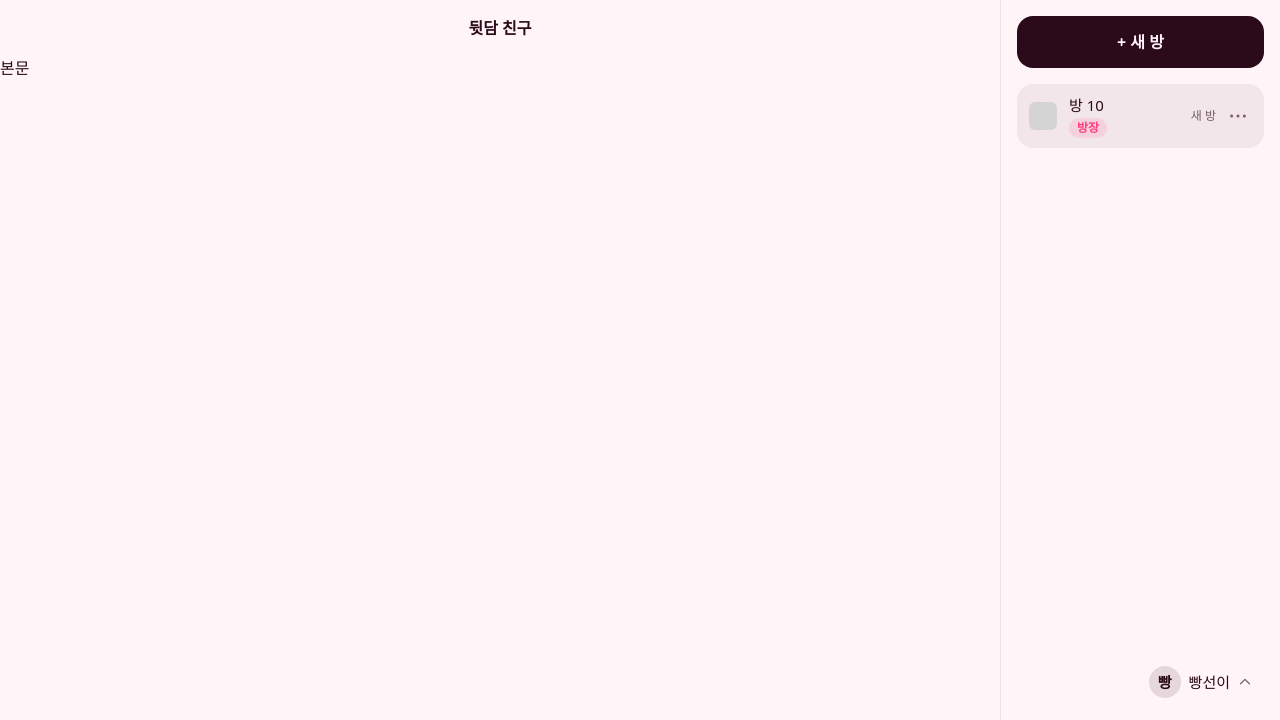
ChatShell 설정 진입 (실제 Sidebar) › 방 상세 조회가 실패해도 설정 시트는 열린다(테마만)
This screenshot has width=1280, height=720.
Click the button "빵 빵선이".
click(1203, 682)  # box 1143,660 -> 1264,704
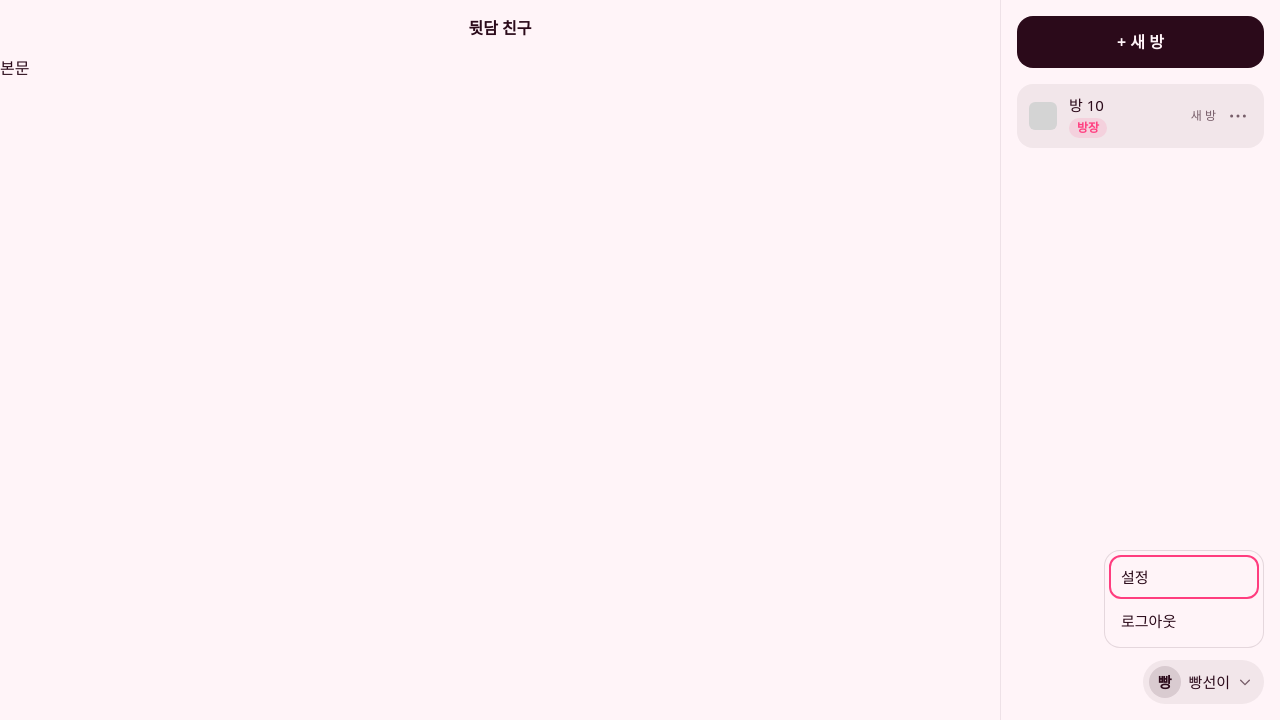
Click the menu item "설정".
click(1184, 577)  # box 1109,555 -> 1259,599
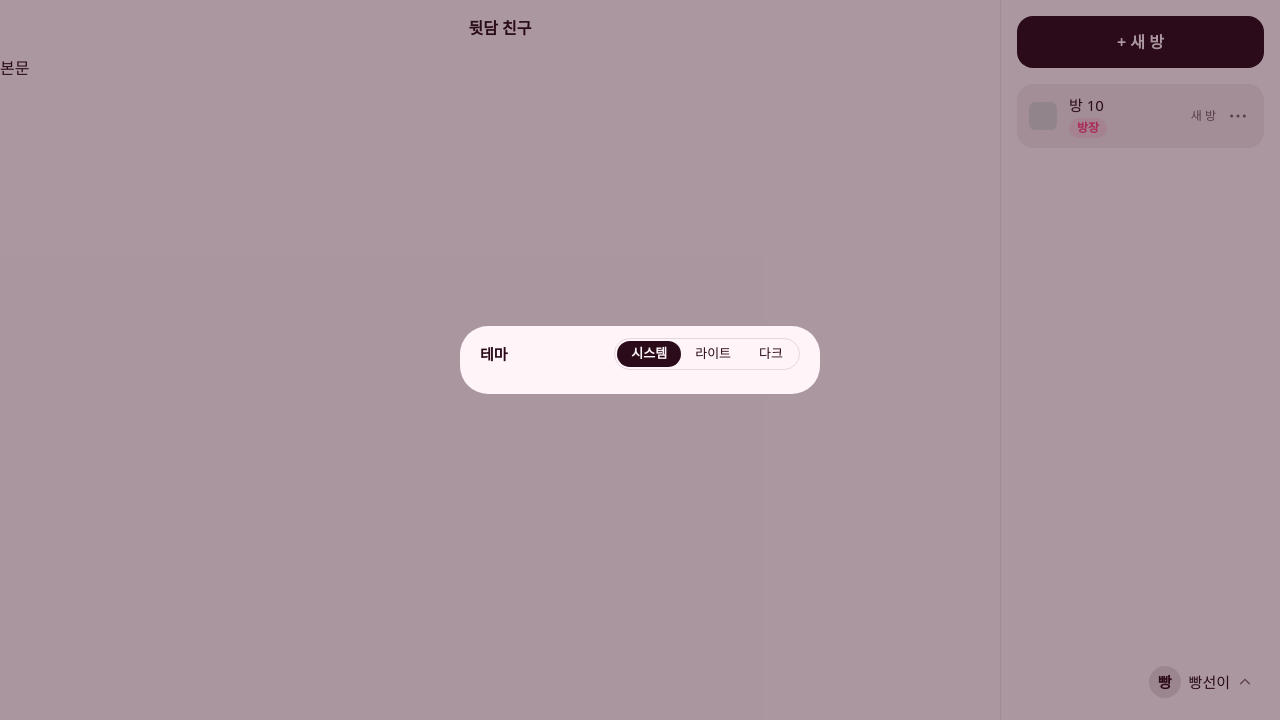
Expected: the dialog named "설정" is shown, 460,326 -> 820,394
Expected: the element named "테마 선택" is shown, 614,338 -> 800,370
